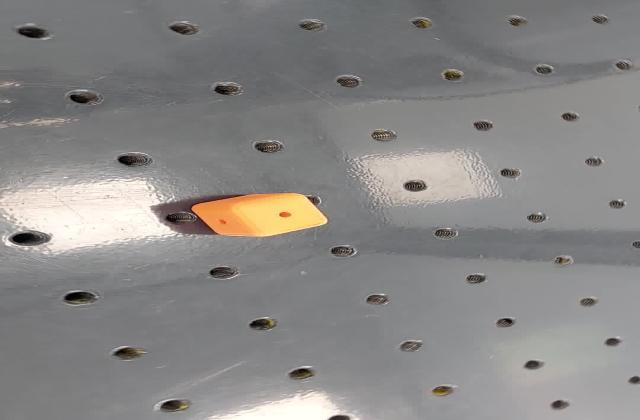cube: (185, 189, 335, 238)
